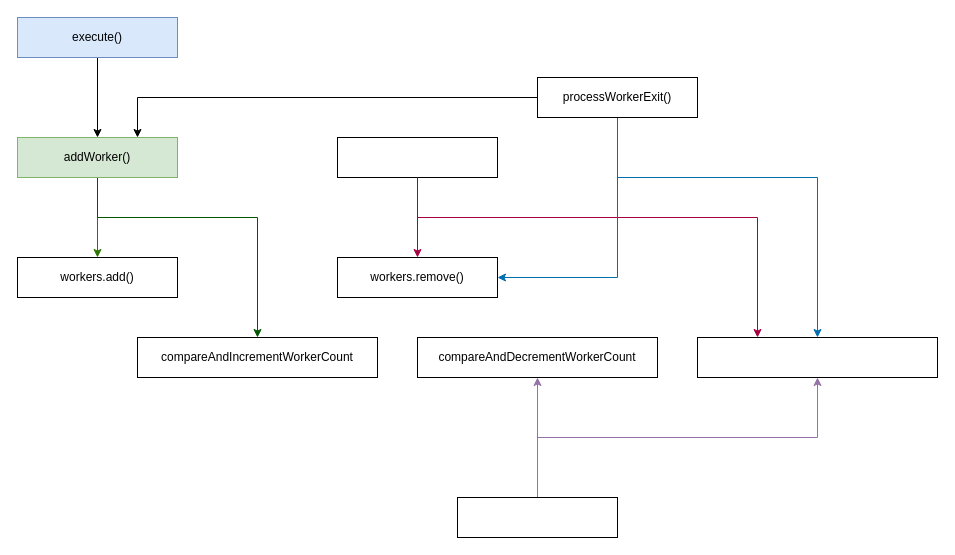
Some shapes in this 955 by 555 pixel diagram are drawn without their labels. The shapes that lost their labels are listed below. From the top down, each one's centre as x and y in pixels, then its label:
At point (417, 157): "addWorkerFailed()".
At point (817, 357): "decrementWorkerCount".
At point (537, 517): "getTask()".
